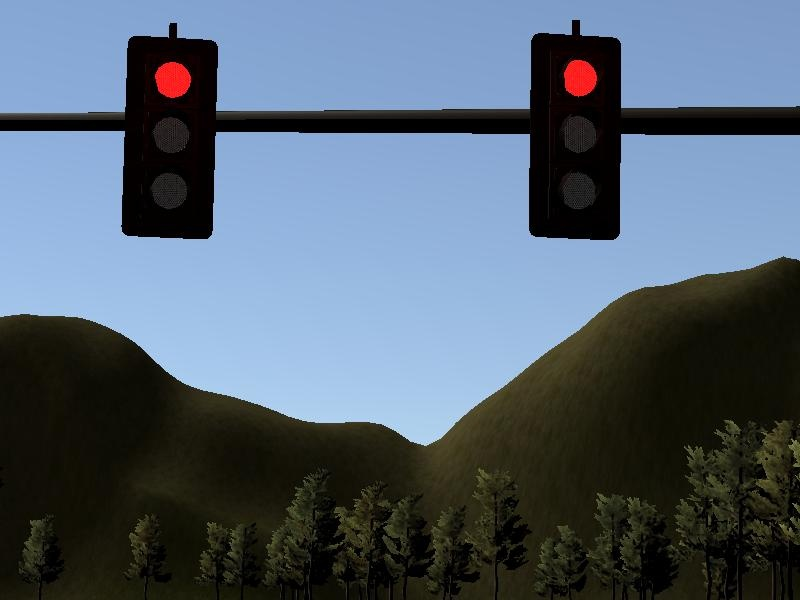red: (525, 24, 625, 243), (122, 28, 219, 241)
